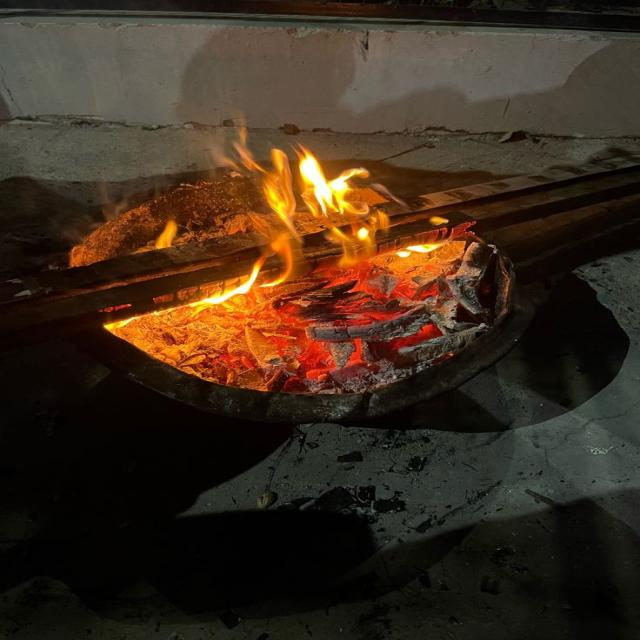fire: (191, 115, 445, 305)
